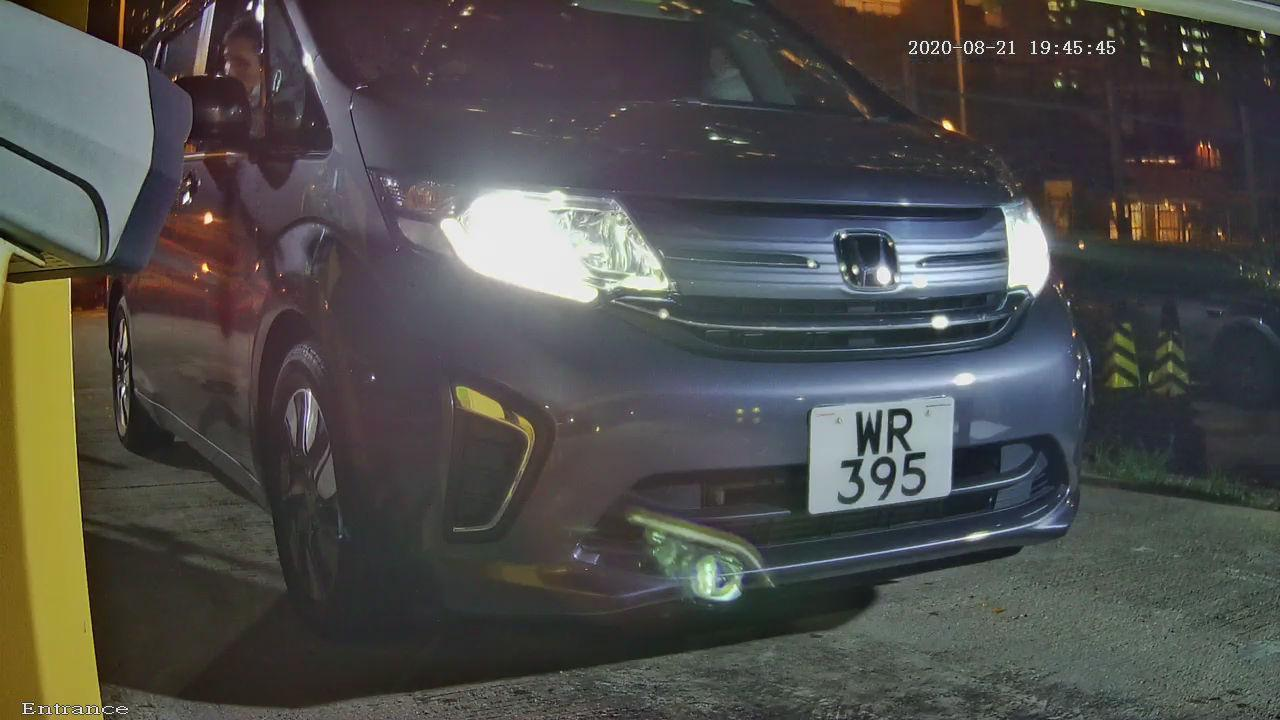License Plate: (795, 386, 966, 528)
